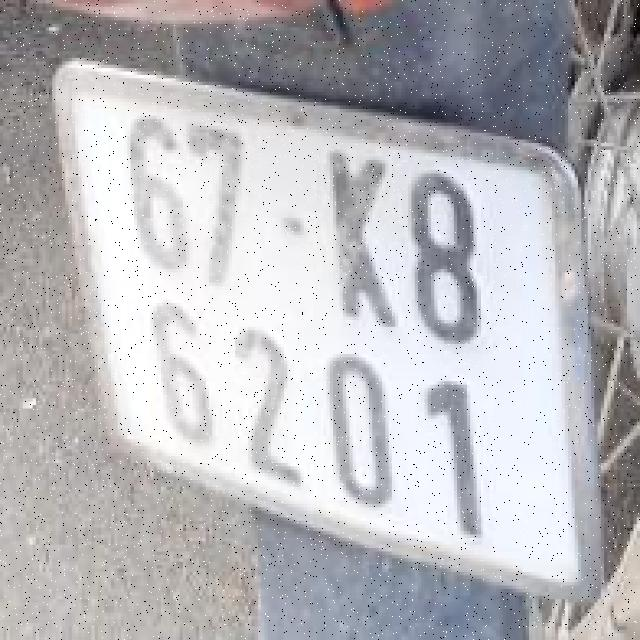0: (322, 347, 396, 528)
1: (420, 357, 488, 555)
2: (222, 317, 304, 497)
6: (129, 282, 217, 452), (118, 94, 199, 278)
7: (183, 114, 248, 298)
8: (402, 155, 489, 356)
K: (307, 141, 402, 339)
